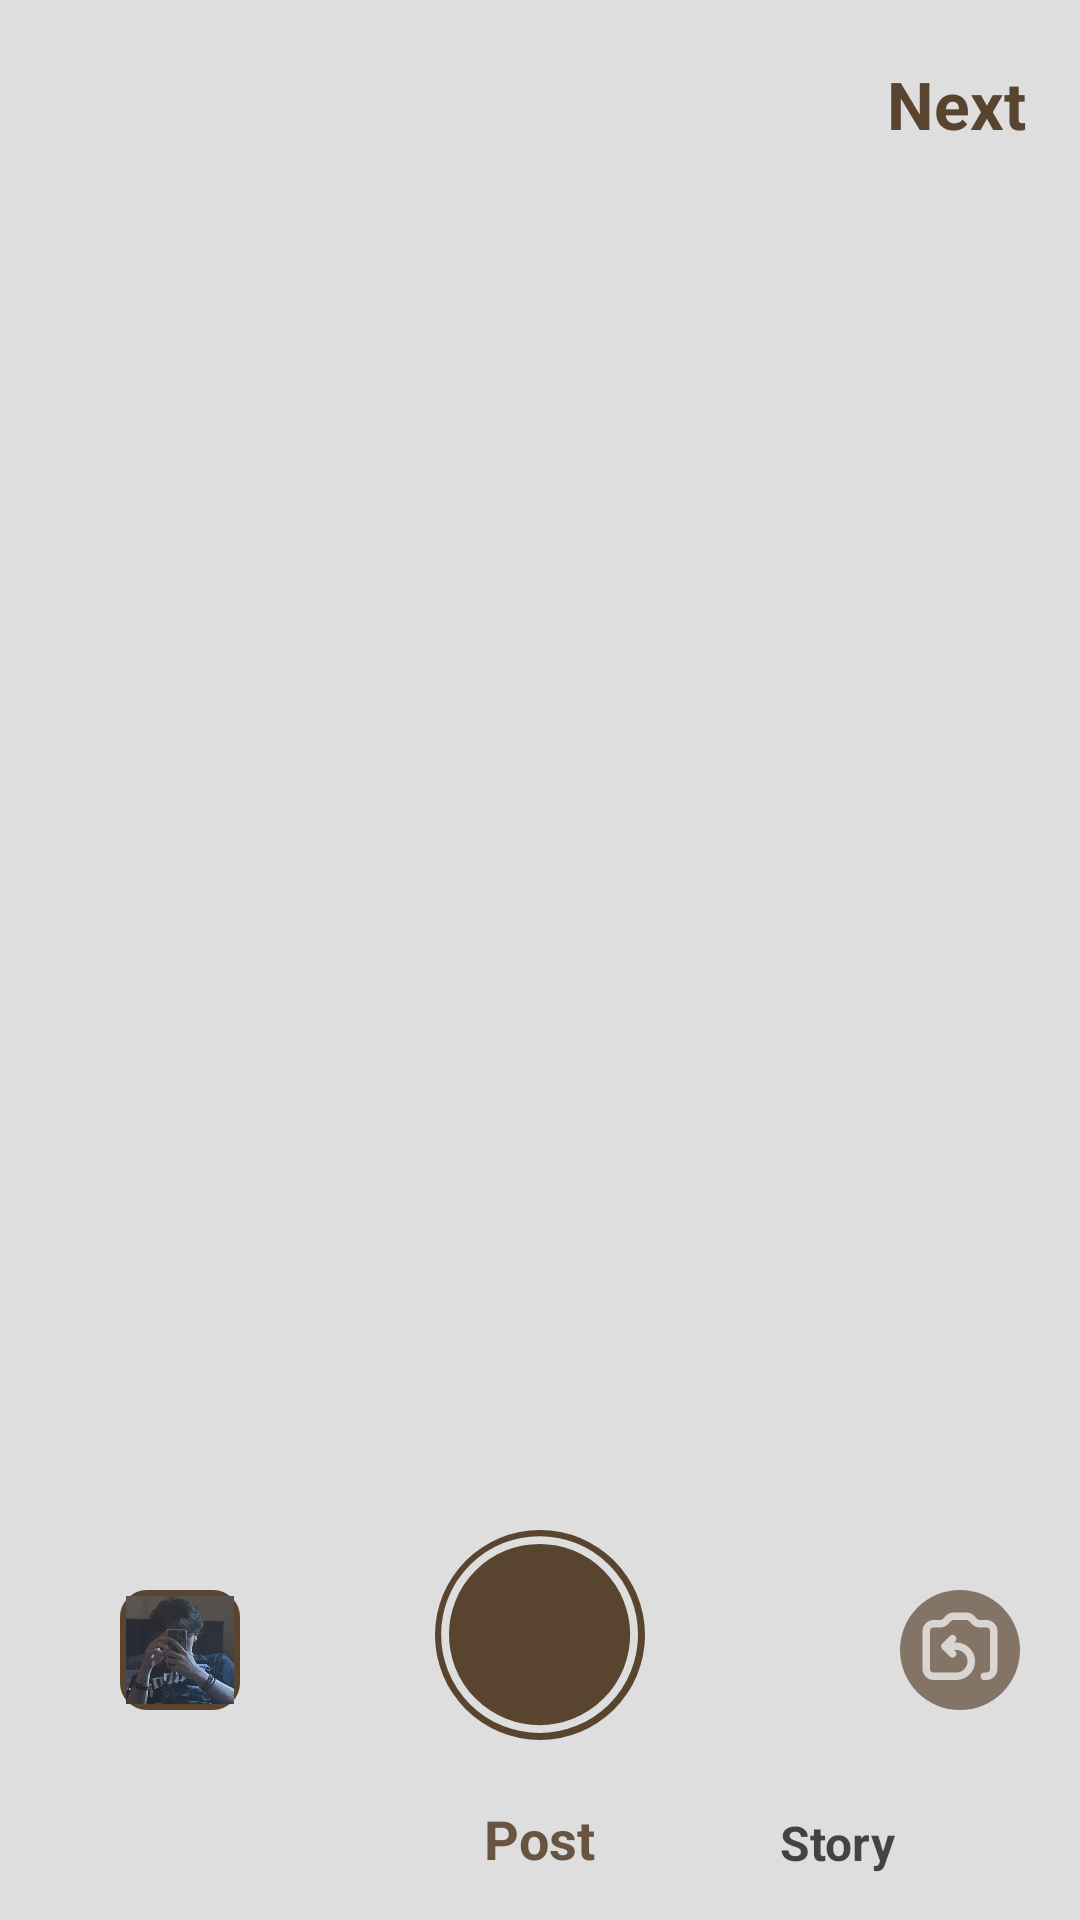

Where icons sit on this 1080 × 1920 app screen, as (x1, y1, x2, y2):
cam flip: (900, 1590, 1020, 1710)
camera sutter: (435, 1530, 645, 1740)
